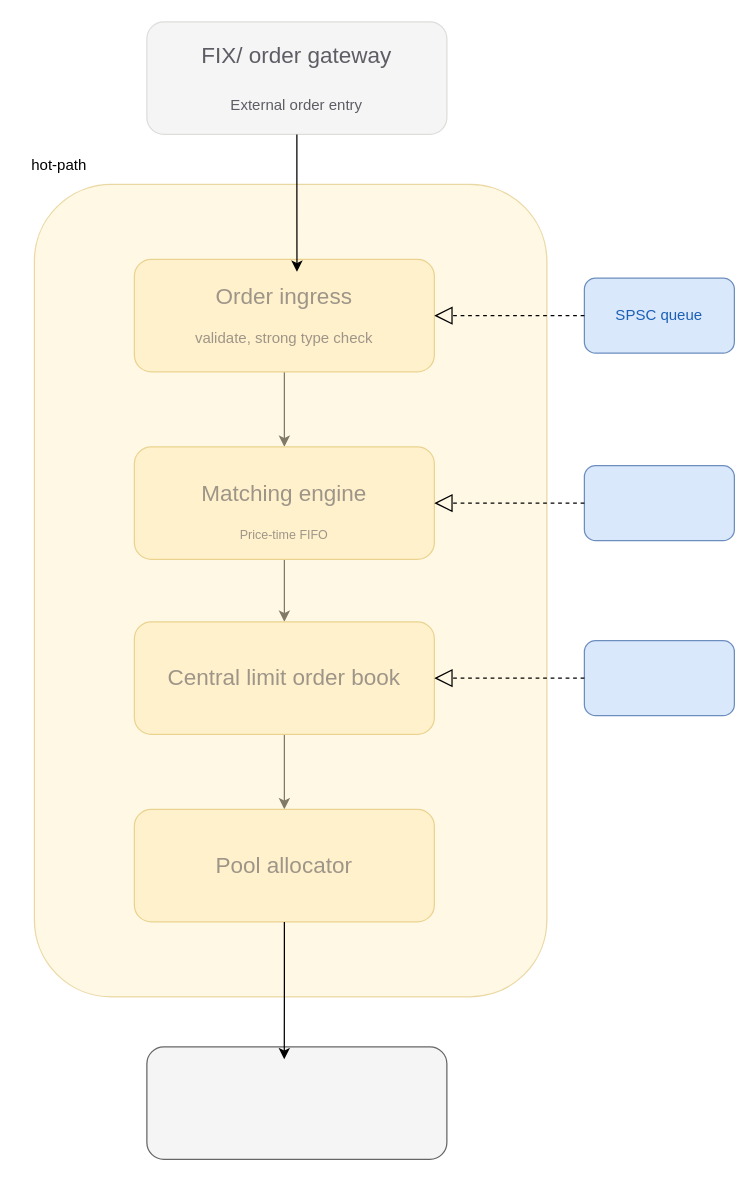
This 756x1181 diagram has some shape labels left out. The shapes that lost their labels are listed below. From the top down, each one's centre as x and y in pixels, then its label:
At (658,502): "Order ID gen alignas(64)".
At (658,677): "Strong typedefs raw price, orderID ..".
At (296,1102): "Trade fill reports".
